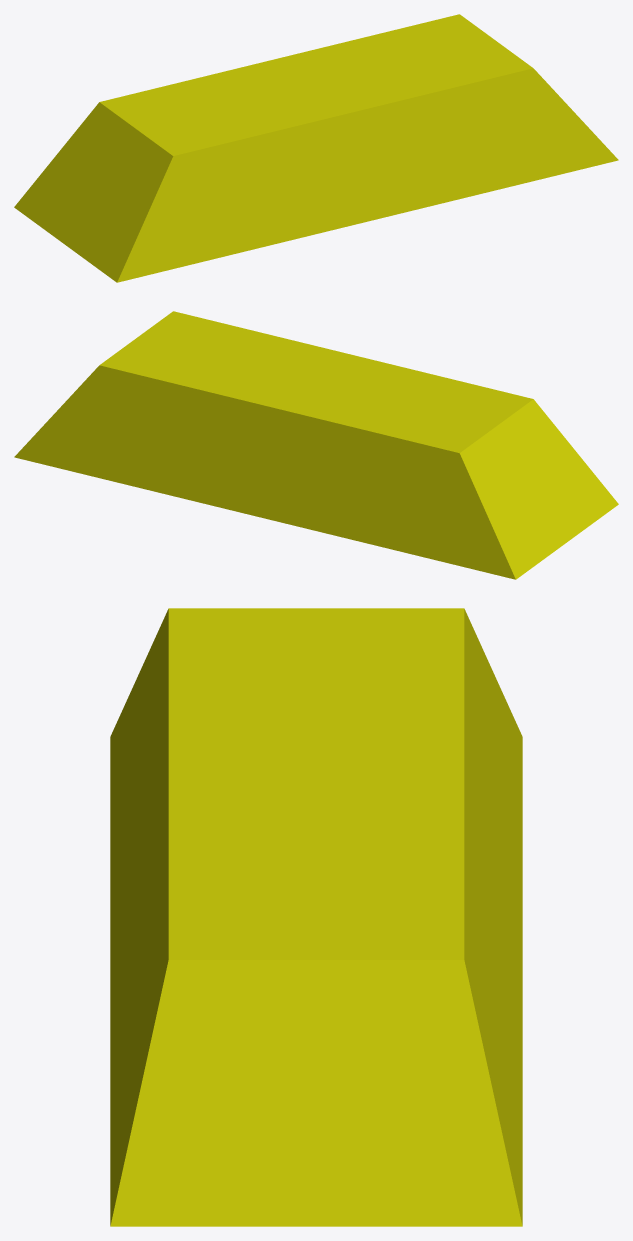
The model's file is Ingot.fbx.
The picture shows the model from 3 angles, top to bottom: view 1: azimuth 30°, elevation 25°; view 2: azimuth 150°, elevation 25°; view 3: azimuth 270°, elevation 25°; orthographic projection. The views are drawn at different scales.
Parts seen in each view (by area): view 1: Mesh; view 2: Mesh; view 3: Mesh.
Part boxes in pixels (x1=…): Mesh: x1=14, y1=14, x2=618, y2=282; Mesh: x1=14, y1=311, x2=618, y2=579; Mesh: x1=110, y1=608, x2=522, y2=1226.
Bounding box in the file's own units: 90.5 × 17 × 32.18.
